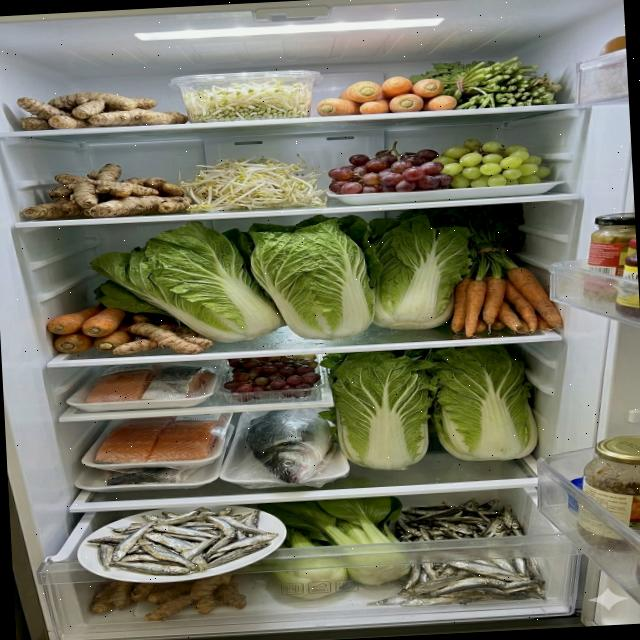anchovies: (86, 503, 280, 581)
bean_sprouts: (176, 151, 329, 214)
cabbage: (88, 206, 478, 354), (314, 343, 541, 475)
carrot: (448, 264, 564, 338), (314, 74, 458, 116), (46, 304, 131, 356)
fish: (244, 407, 335, 486), (90, 414, 228, 466), (84, 359, 218, 404)
grape: (326, 134, 552, 196), (222, 354, 322, 404)
pakchoy: (256, 495, 413, 602)
turmeric: (19, 159, 194, 222), (16, 86, 190, 132)
